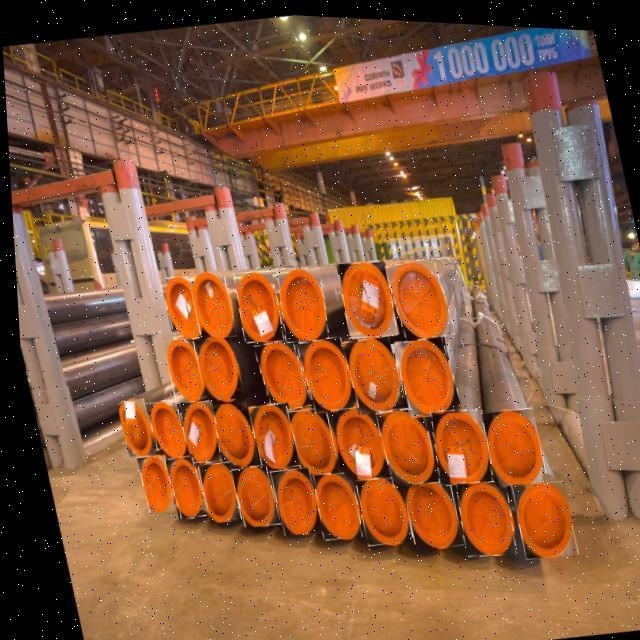pipe: (382, 253, 452, 338), (388, 331, 457, 414), (505, 475, 572, 554), (477, 402, 542, 482), (339, 331, 402, 411), (371, 403, 433, 484), (292, 333, 354, 410), (426, 406, 487, 481), (451, 476, 511, 551), (335, 258, 394, 334), (396, 473, 457, 546), (326, 401, 383, 477), (250, 336, 307, 409), (350, 473, 407, 542), (273, 265, 325, 339), (283, 404, 334, 473), (265, 464, 316, 533), (243, 400, 295, 467), (231, 269, 280, 340), (185, 268, 234, 338), (308, 469, 356, 536), (225, 462, 275, 526), (206, 400, 254, 466), (156, 273, 202, 339), (192, 336, 239, 398), (159, 454, 203, 518), (192, 460, 235, 521), (160, 336, 201, 399), (141, 398, 184, 458), (174, 400, 215, 462), (131, 453, 170, 512), (112, 397, 150, 456)
